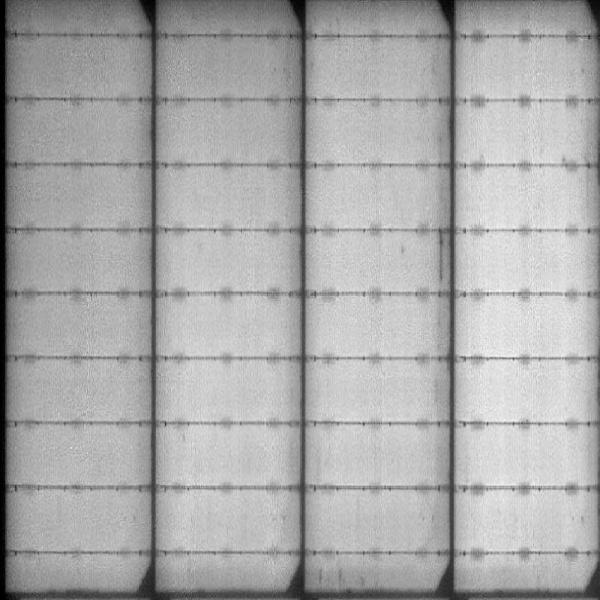scratch: (431, 232, 446, 284)
